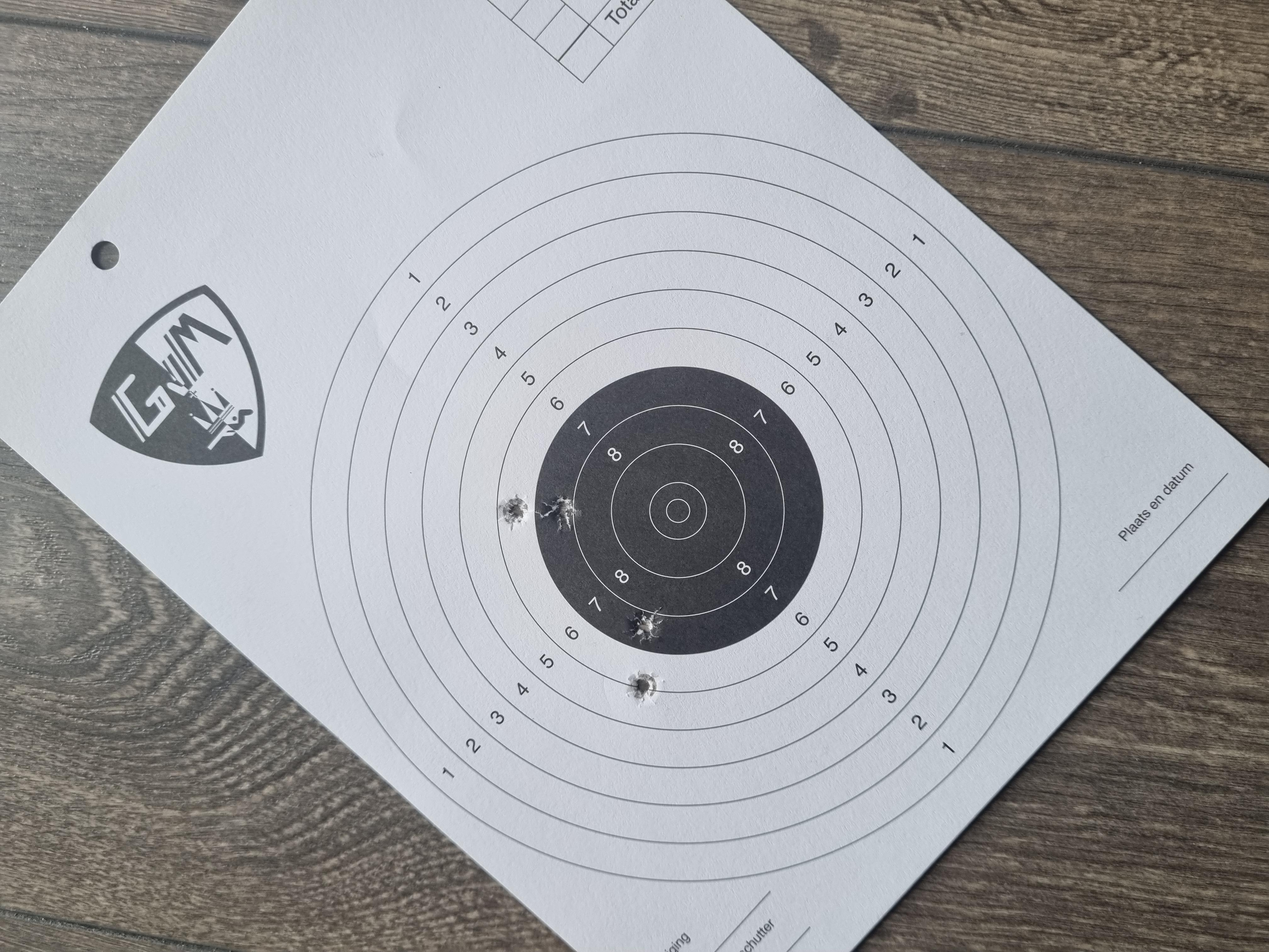hole: (560, 404, 609, 436), (412, 469, 460, 497), (561, 376, 611, 397), (328, 470, 373, 493)
